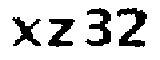2: (116, 6, 148, 49)
3: (82, 4, 114, 50)
x: (10, 15, 43, 50)
z: (44, 17, 77, 51)
